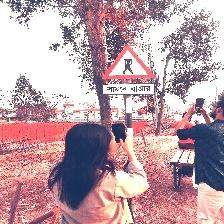Market-in-front: (102, 45, 157, 99)
